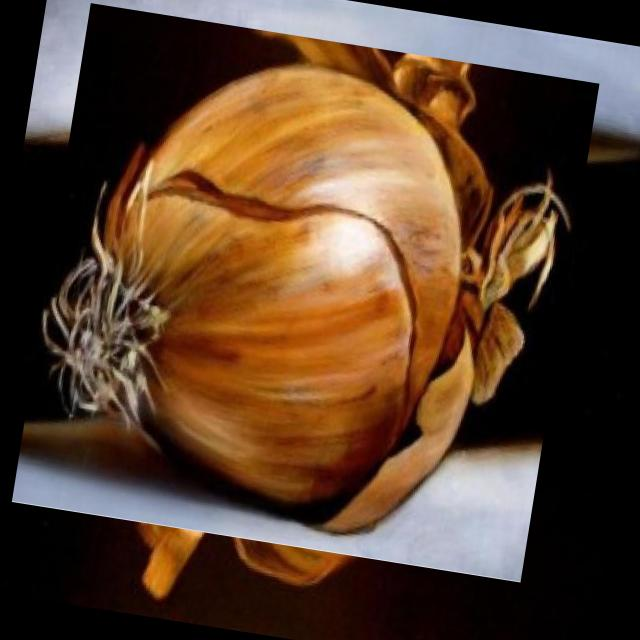Onion: (11, 3, 600, 583)
